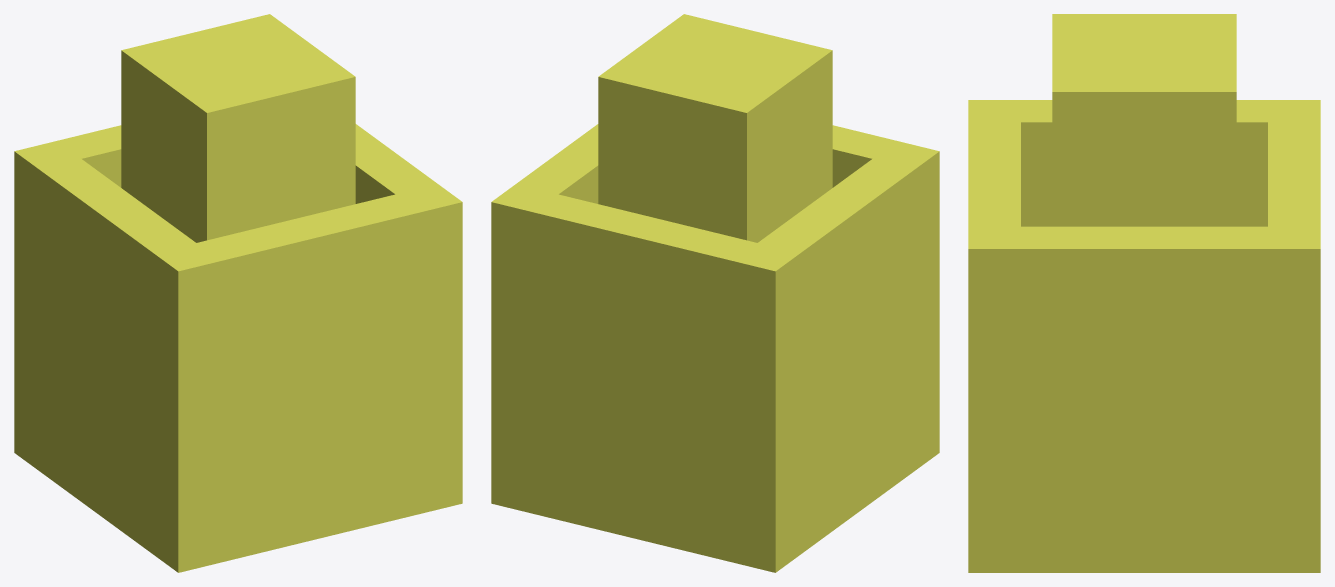
Rendered from fisi.gltf.
3 renders of one model, left to right at view 1: azimuth 30°, elevation 25°; view 2: azimuth 150°, elevation 25°; view 3: azimuth 270°, elevation 25°, orthographic. The views are drawn at different scales.
Visible parts, largest first — view 1: Plane.001; view 2: Plane.001; view 3: Plane.001.
Boxes of the visible parts, x1=… form: Plane.001: x1=14, y1=14, x2=462, y2=572; Plane.001: x1=491, y1=14, x2=939, y2=572; Plane.001: x1=968, y1=14, x2=1320, y2=572.
Size of the model in its own units: 2 by 2.79 by 2.
